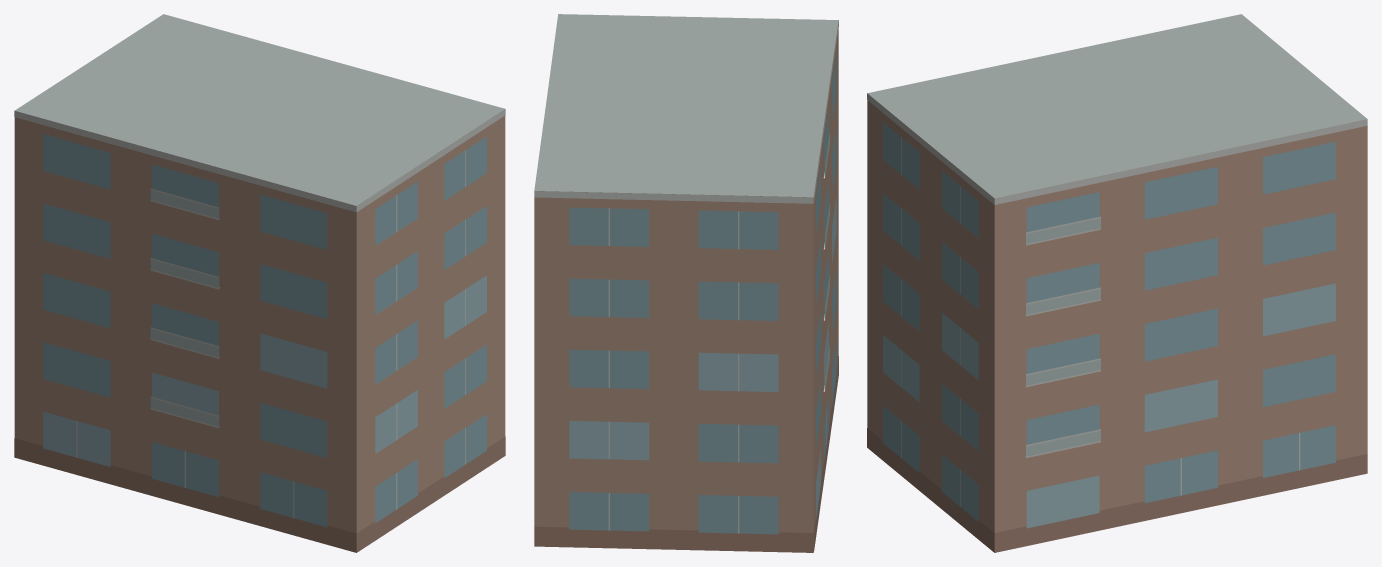
File: survey-upis-32832126.glb
3 renders of one model, left to right at view 1: azimuth 30°, elevation 25°; view 2: azimuth 150°, elevation 25°; view 3: azimuth 270°, elevation 25°, orthographic. The views are drawn at different scales.
Visible parts, largest first — view 1: survey-upis-32832126.tmp; view 2: survey-upis-32832126.tmp; view 3: survey-upis-32832126.tmp.
Part boxes in pixels (x1,y1,x2,y2): survey-upis-32832126.tmp: (14,14,505,552); survey-upis-32832126.tmp: (534,14,838,552); survey-upis-32832126.tmp: (867,14,1367,552).
Bounding box in the file's own units: 14.75 × 13.2 × 16.91.
